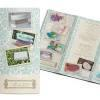paper: (0, 7, 100, 94)
